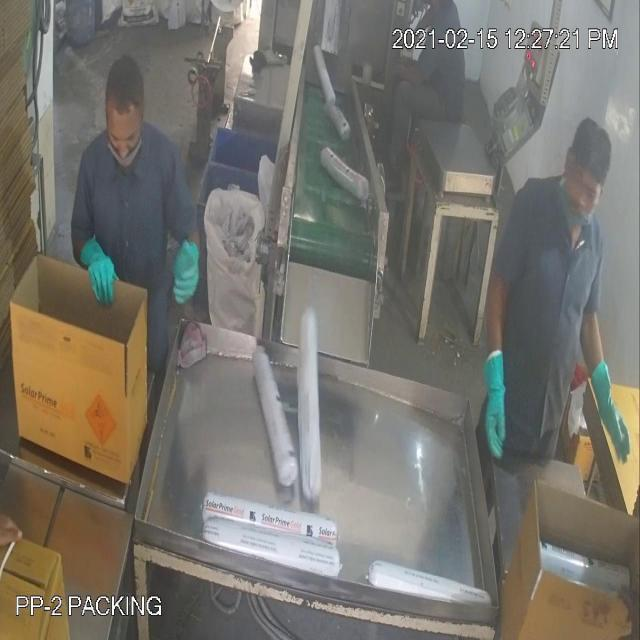Gloves: (36, 54, 615, 412)
